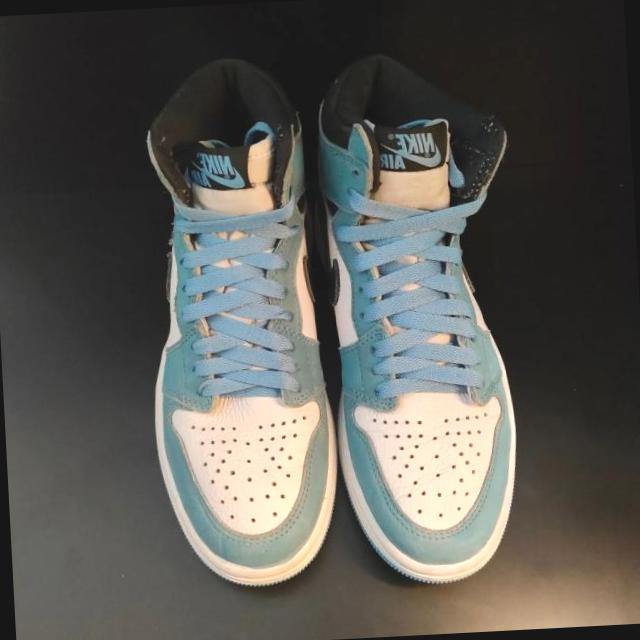nike_original_jordan: (304, 45, 526, 586), (136, 56, 344, 586)
